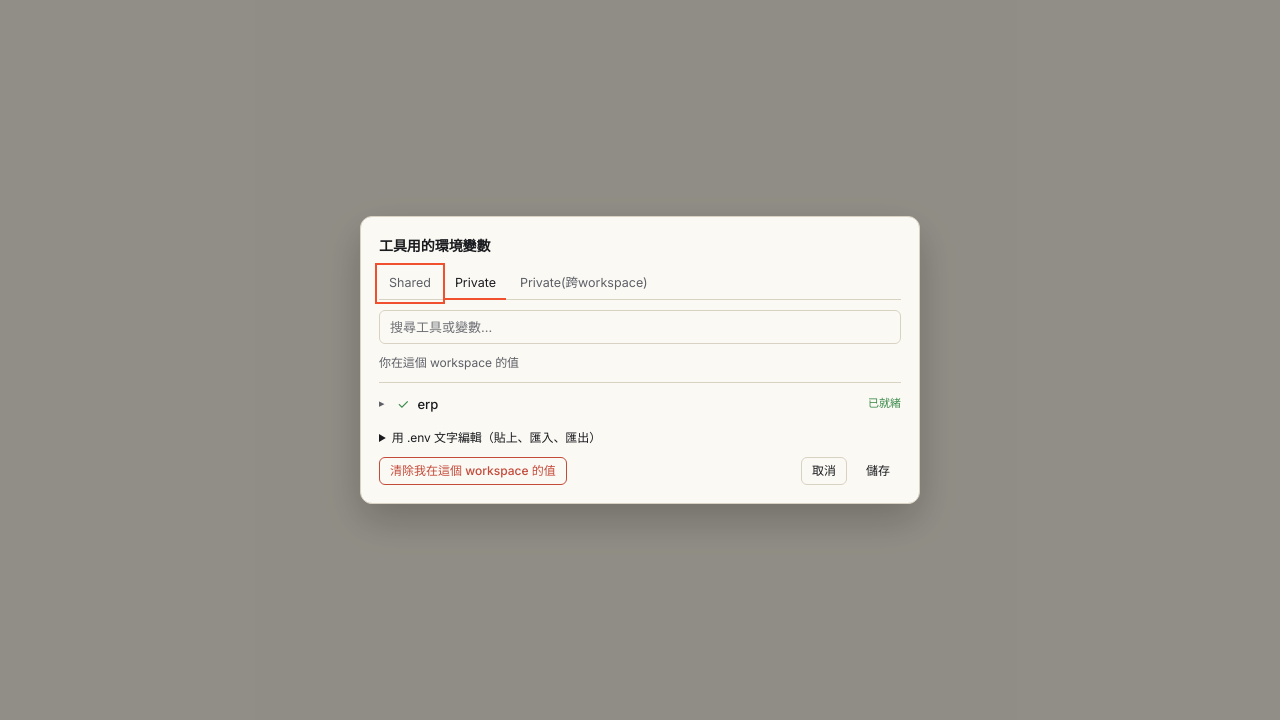
Scenario: clearing my values for this workspace › does not promise to delete what comes back by itself
Click the button with test id "env-mine-logout". click: (473, 471)
box: [379,457,567,485]
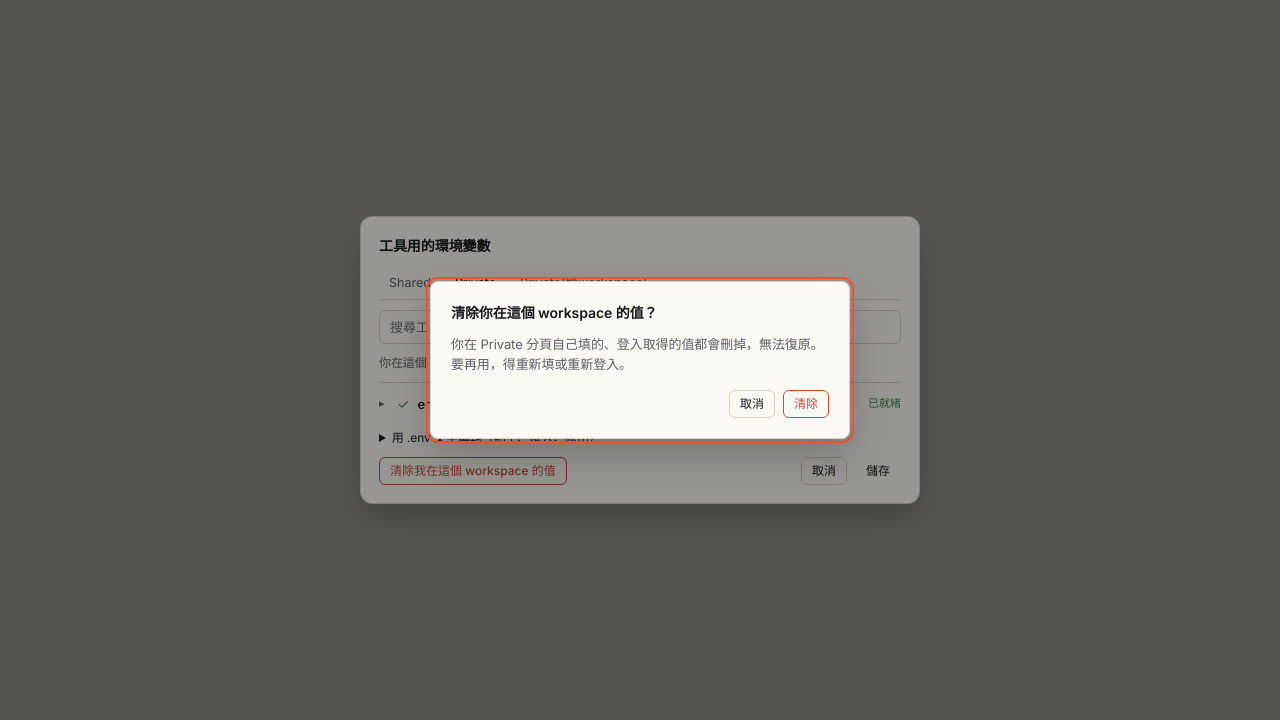
Expected: the dialog with test id "dialog-action-clear" shows "填的", [430,281,850,439]
Expected: the dialog with test id "dialog-action-clear" shows "登入", [430,281,850,439]
